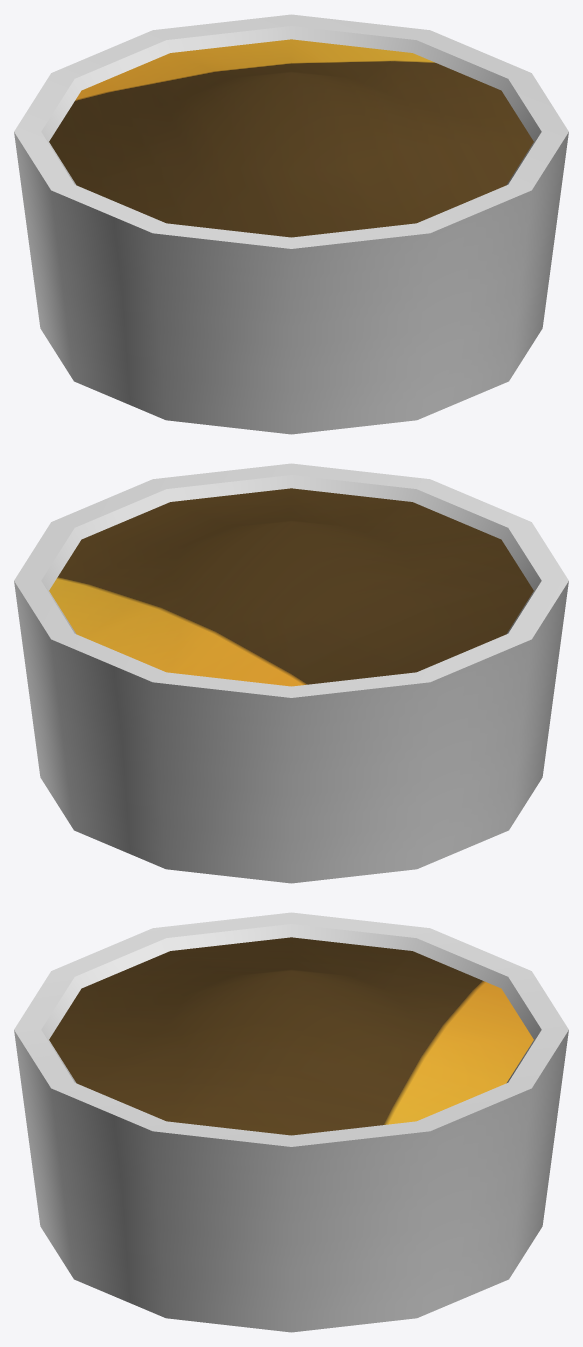
The model's file is DoubleCooked_SauceAndalouse.fbx.
3 renders of one model, top to bottom at view 1: azimuth 30°, elevation 25°; view 2: azimuth 150°, elevation 25°; view 3: azimuth 270°, elevation 25°, orthographic.
Visible parts, largest first — view 1: DoubleCooked_SauceAndalouse; view 2: DoubleCooked_SauceAndalouse; view 3: DoubleCooked_SauceAndalouse.
Boxes of the visible parts, left/top/right/bottom form: DoubleCooked_SauceAndalouse: left=14, top=14, right=568, bottom=434; DoubleCooked_SauceAndalouse: left=14, top=463, right=568, bottom=883; DoubleCooked_SauceAndalouse: left=14, top=912, right=568, bottom=1332.
Bounding box in the file's own units: 5.07 × 2.57 × 5.07.
Materials: 1 (1 with a texture image).
